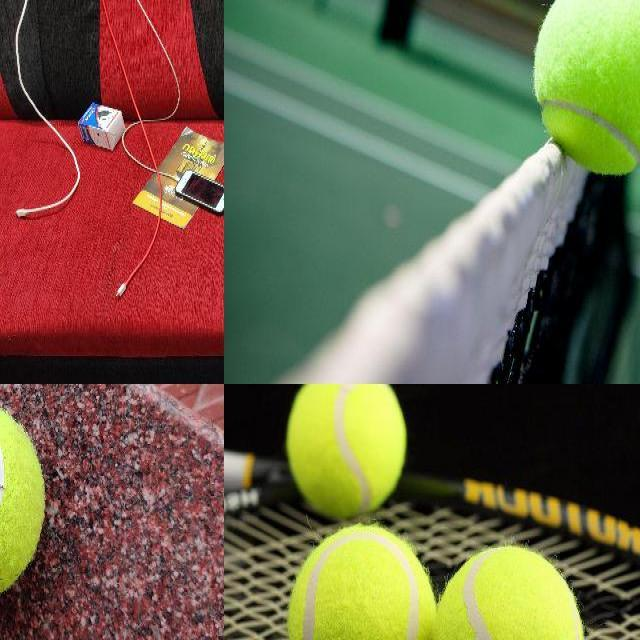tennis-ball: (533, 0, 639, 177), (286, 521, 437, 639), (283, 384, 407, 518), (434, 545, 586, 639), (0, 400, 45, 602)
